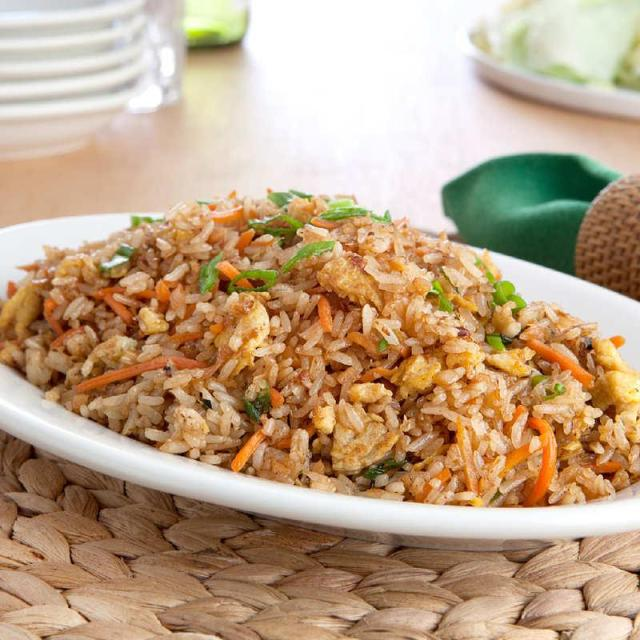Nasi Goreng: (0, 187, 638, 507)
